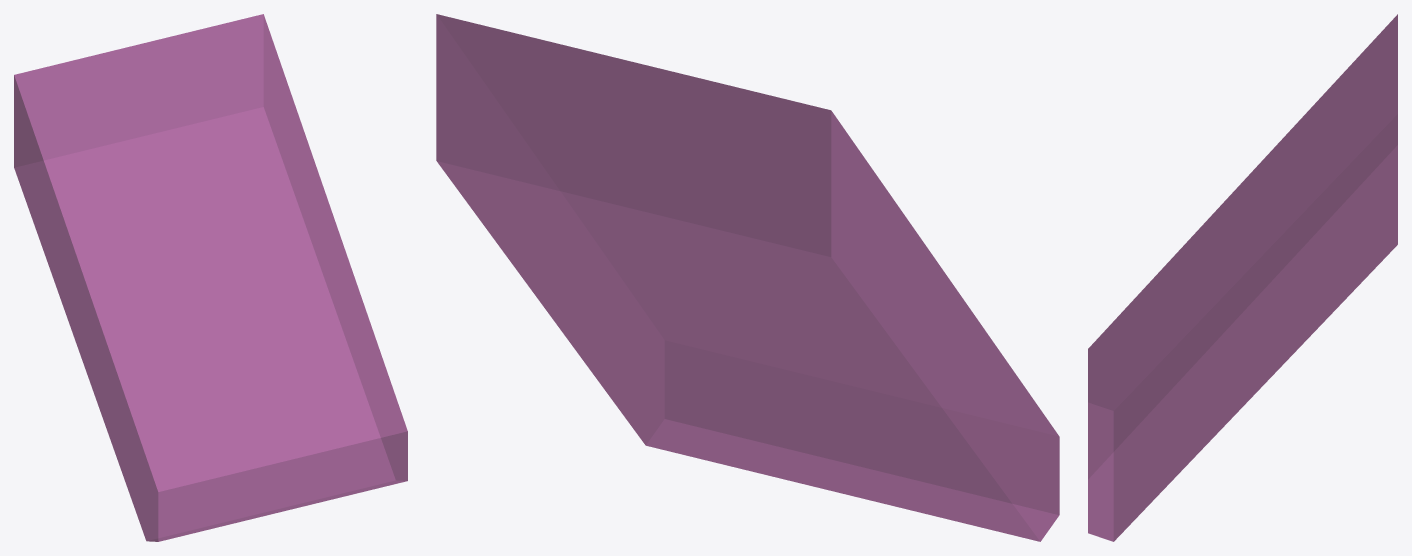
The model's file is SM_Bld_Base_Roof_Quarter_01_Collision.fbx.
3 renders of one model, left to right at view 1: azimuth 30°, elevation 25°; view 2: azimuth 150°, elevation 25°; view 3: azimuth 270°, elevation 25°, orthographic. The views are drawn at different scales.
Parts seen in each view (by area): view 1: SM_Bld_Base_Roof_Quarter_01_Collision; view 2: SM_Bld_Base_Roof_Quarter_01_Collision; view 3: SM_Bld_Base_Roof_Quarter_01_Collision.
Part boxes in pixels (x1=…): SM_Bld_Base_Roof_Quarter_01_Collision: x1=14, y1=14, x2=407, y2=541; SM_Bld_Base_Roof_Quarter_01_Collision: x1=436, y1=14, x2=1059, y2=541; SM_Bld_Base_Roof_Quarter_01_Collision: x1=1088, y1=14, x2=1397, y2=541.
Size of the model in its own units: 128 by 182 by 129.
